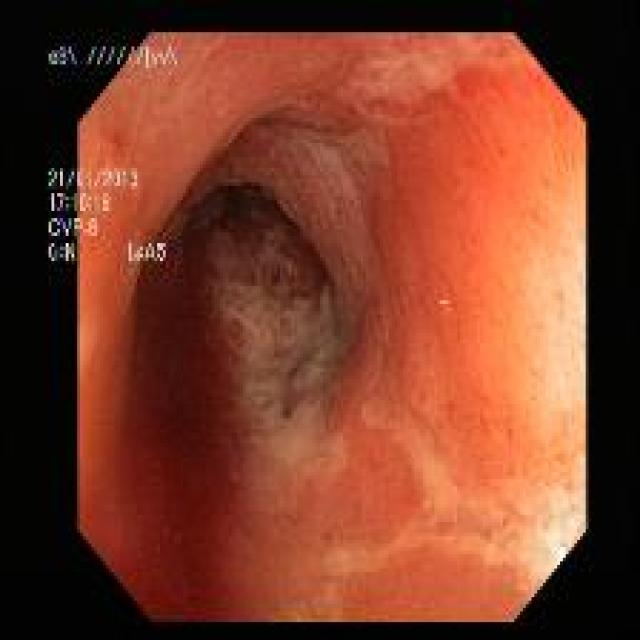ulcerative-colitis: (76, 33, 586, 621)
